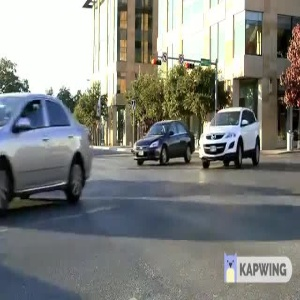car: (1, 81, 92, 208), (125, 117, 198, 173)
suv: (191, 101, 265, 172)
